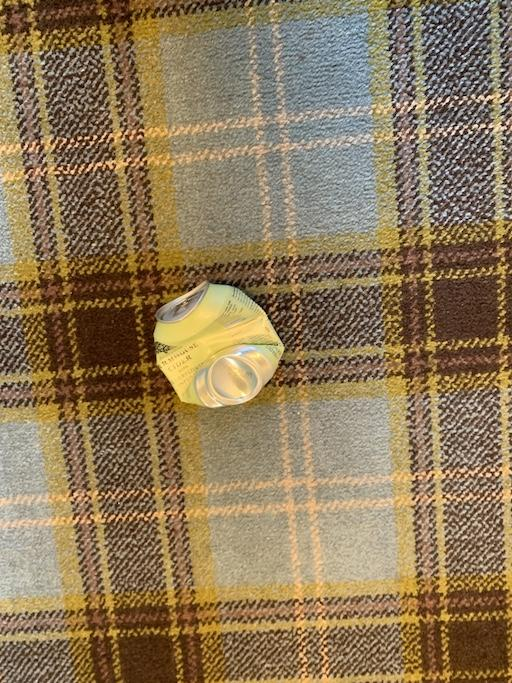Aluminum can: (136, 276, 310, 416)
